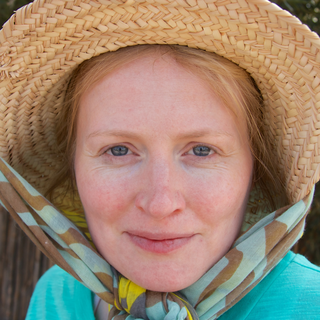eye: (173, 139, 225, 163), (92, 141, 145, 164)
